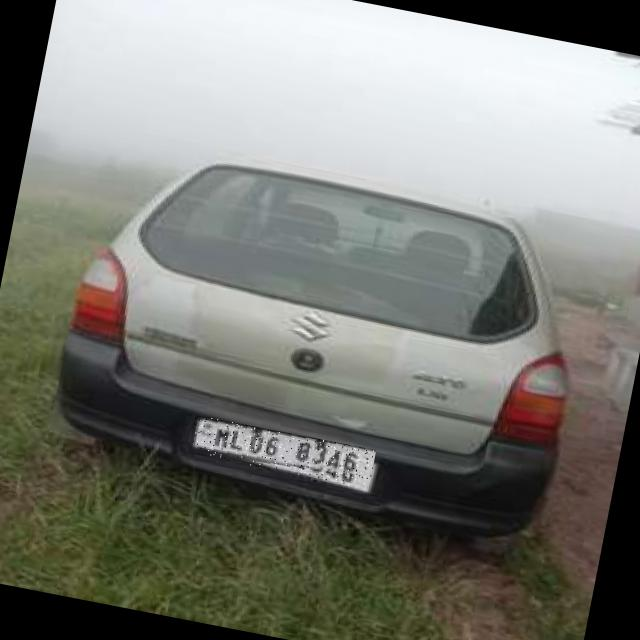Plate: (189, 416, 377, 489)
